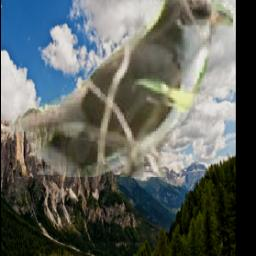Cuckoo: (9, 0, 233, 178)
